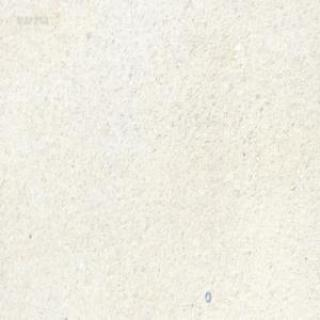Washertrack_idkeyframe: (204, 288, 211, 301)
